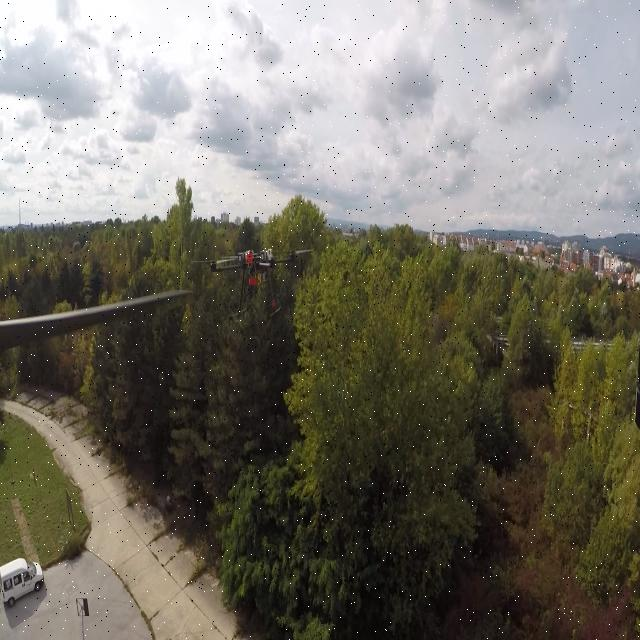UAV: (192, 242, 314, 325)
